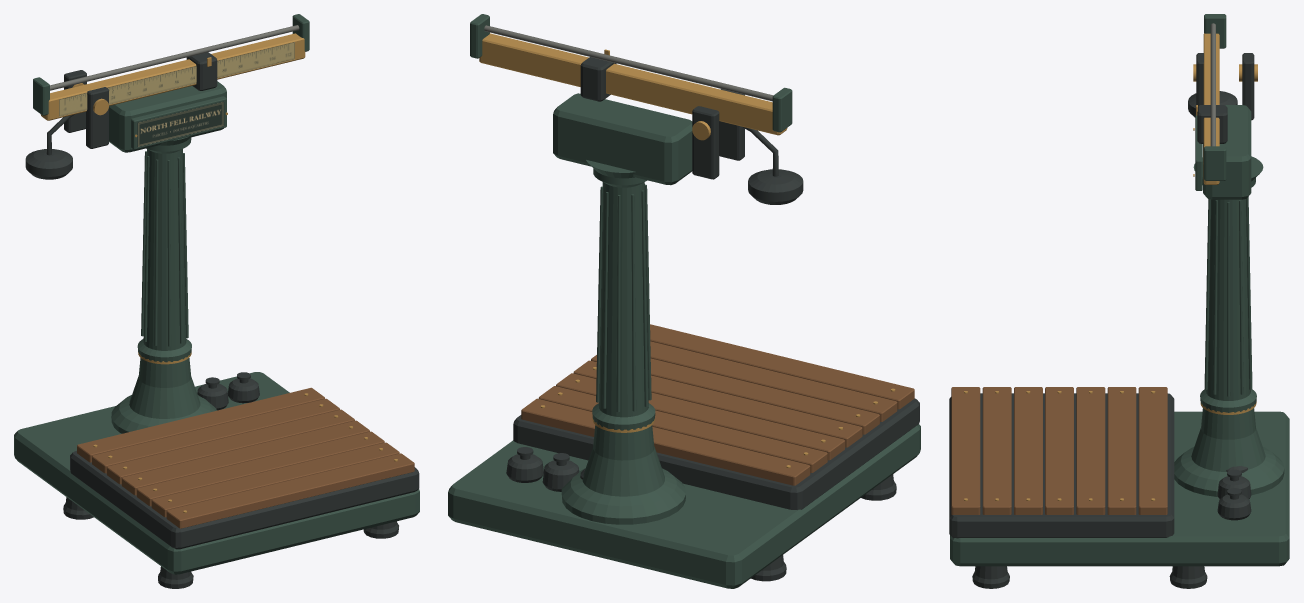
The model's file is ParcelsScale.fbx.
3 renders of one model, left to right at view 1: azimuth 30°, elevation 25°; view 2: azimuth 150°, elevation 25°; view 3: azimuth 270°, elevation 25°, orthographic. The views are drawn at different scales.
Visible parts, largest first — view 1: ParcelsScale joinery; view 2: ParcelsScale joinery; view 3: ParcelsScale joinery.
Boxes of the visible parts, <box> form: ParcelsScale joinery: <box>14,14,419,588</box>; ParcelsScale joinery: <box>448,14,920,588</box>; ParcelsScale joinery: <box>949,14,1289,588</box>.
Size of the model in its own units: 0.7285 by 1.07 by 0.741.
Materials: 6 (1 with a texture image).
